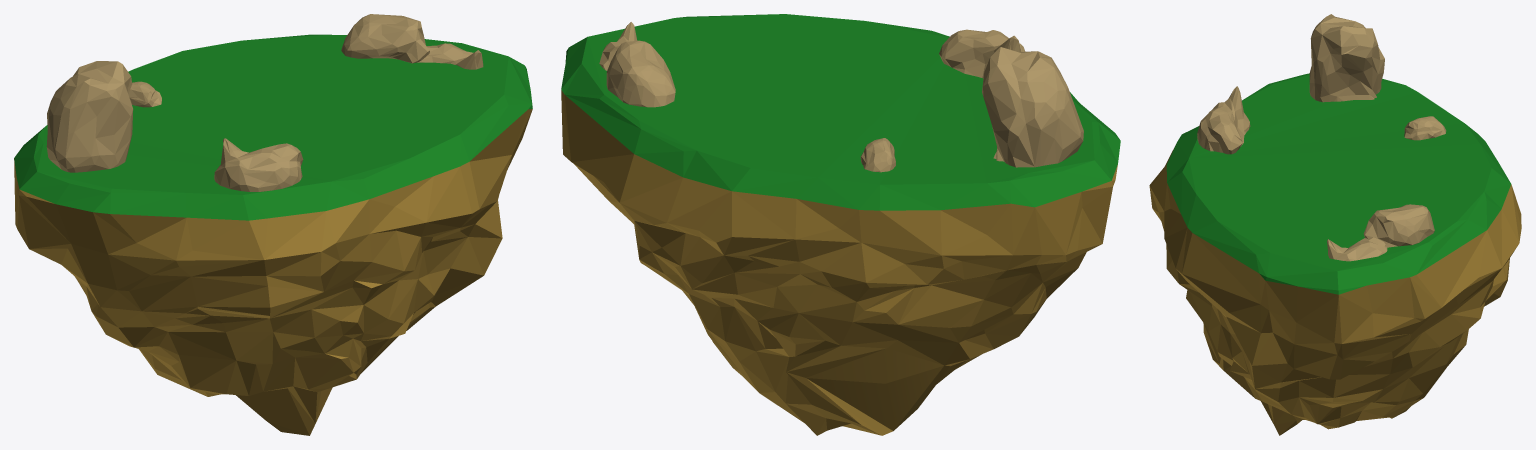
File: Tuturial Island.fbx
The picture shows the model from 3 angles, left to right: view 1: azimuth 30°, elevation 25°; view 2: azimuth 150°, elevation 25°; view 3: azimuth 270°, elevation 25°; orthographic projection. The views are drawn at different scales.
Parts seen in each view (by area): view 1: polySurface1, pPlatonic2, pPlatonic1, pPlatonic4, pPlatonic5, pPlatonic3; view 2: polySurface1, pPlatonic2, pPlatonic4, pPlatonic1, pPlatonic3, pPlatonic5; view 3: polySurface1, pPlatonic2, pPlatonic4, pPlatonic1, pPlatonic5, pPlatonic3.
Part boxes in pixels (<box>): polySurface1: <box>14,34,532,435</box>; pPlatonic2: <box>46,61,133,172</box>; pPlatonic1: <box>214,138,303,191</box>; pPlatonic4: <box>341,14,429,63</box>; pPlatonic5: <box>417,43,483,69</box>; pPlatonic3: <box>128,81,161,107</box>; polySurface1: <box>561,14,1120,435</box>; pPlatonic2: <box>982,47,1083,167</box>; pPlatonic4: <box>606,40,675,107</box>; pPlatonic1: <box>939,29,1025,78</box>; pPlatonic3: <box>860,138,895,172</box>; pPlatonic5: <box>599,22,637,70</box>; polySurface1: <box>1149,73,1521,435</box>; pPlatonic2: <box>1309,14,1384,102</box>; pPlatonic4: <box>1363,204,1434,247</box>; pPlatonic1: <box>1197,86,1250,154</box>; pPlatonic5: <box>1327,237,1387,261</box>; pPlatonic3: <box>1404,116,1446,140</box>.
Size of the model in its own units: 45.56 by 33.1 by 32.61.
